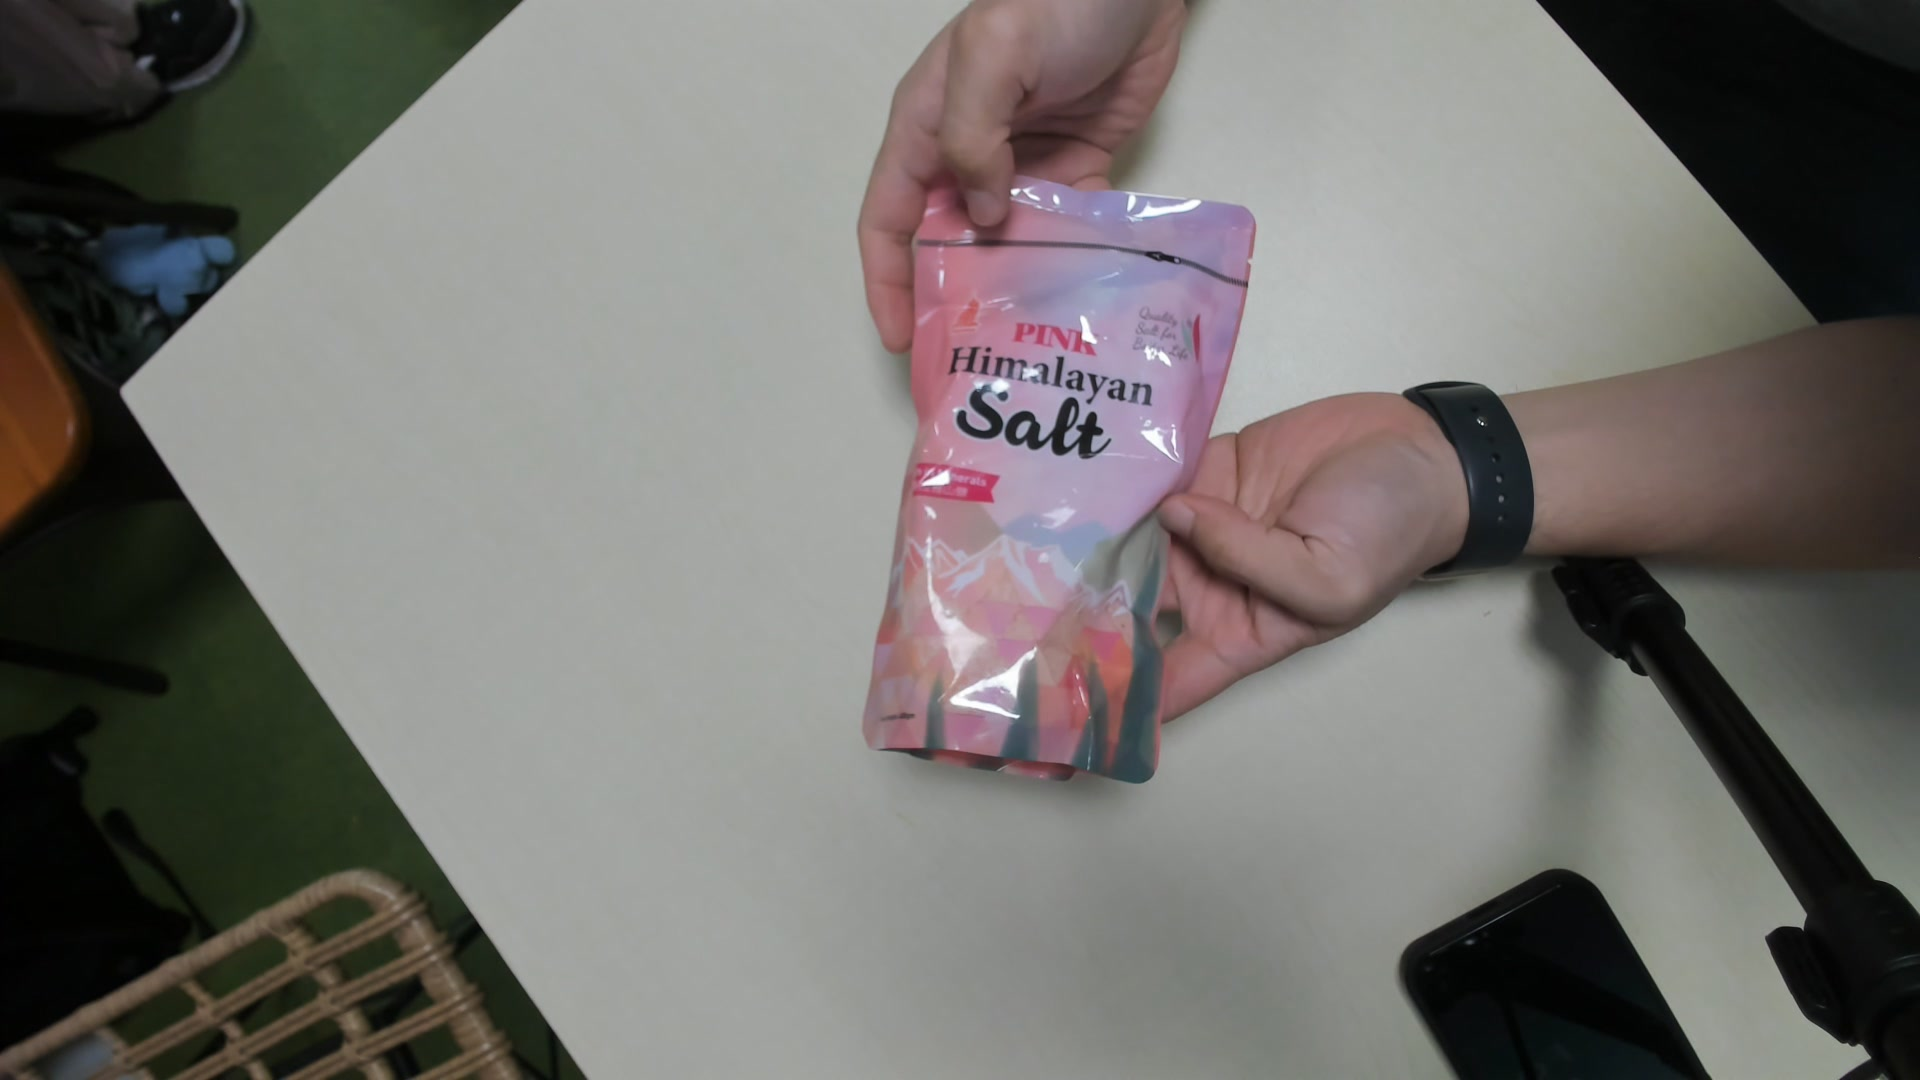Salt_400-499g_NonHalal_NonHealthy: (862, 171, 1254, 785)
